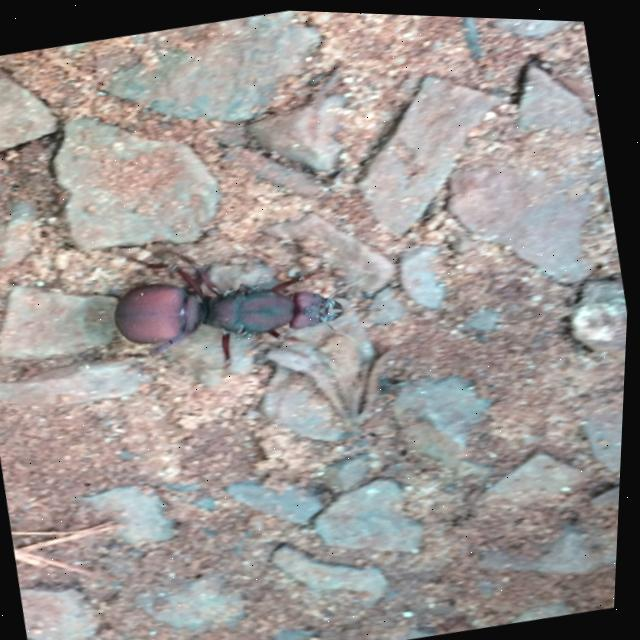Alive-Female-Dealate: (65, 206, 387, 395)
